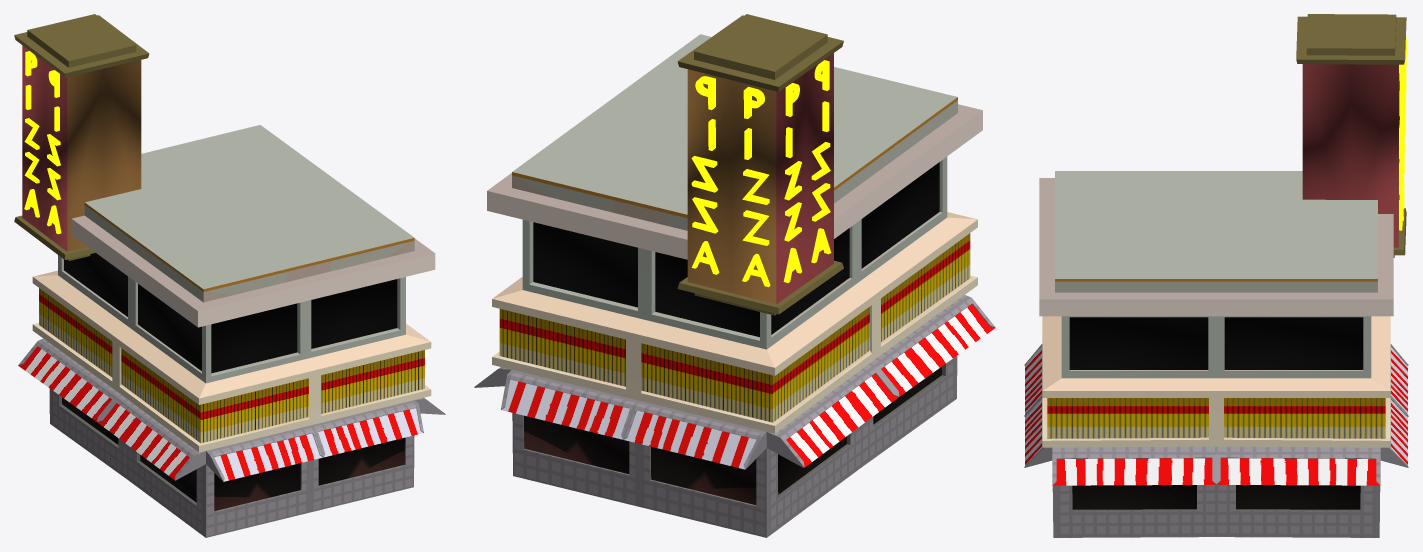
Rendered from PizzaResBuilding_2.fbx.
The picture shows the model from 3 angles, left to right: view 1: azimuth 30°, elevation 25°; view 2: azimuth 150°, elevation 25°; view 3: azimuth 270°, elevation 25°; orthographic projection. The views are drawn at different scales.
Visible parts, largest first — view 1: Restauraunt, PizzaSign; view 2: Restauraunt, PizzaSign; view 3: Restauraunt, PizzaSign.
Part boxes in pixels (left/top/right/bottom): Restauraunt: left=18, top=125, right=445, bottom=537; PizzaSign: left=14, top=14, right=149, bottom=260; Restauraunt: left=474, top=34, right=995, bottom=537; PizzaSign: left=677, top=14, right=843, bottom=315; Restauraunt: left=1024, top=171, right=1408, bottom=537; PizzaSign: left=1296, top=14, right=1406, bottom=257.
Size of the model in its own units: 2475 by 3421 by 2908.
Materials: 3 (2 with a texture image).
